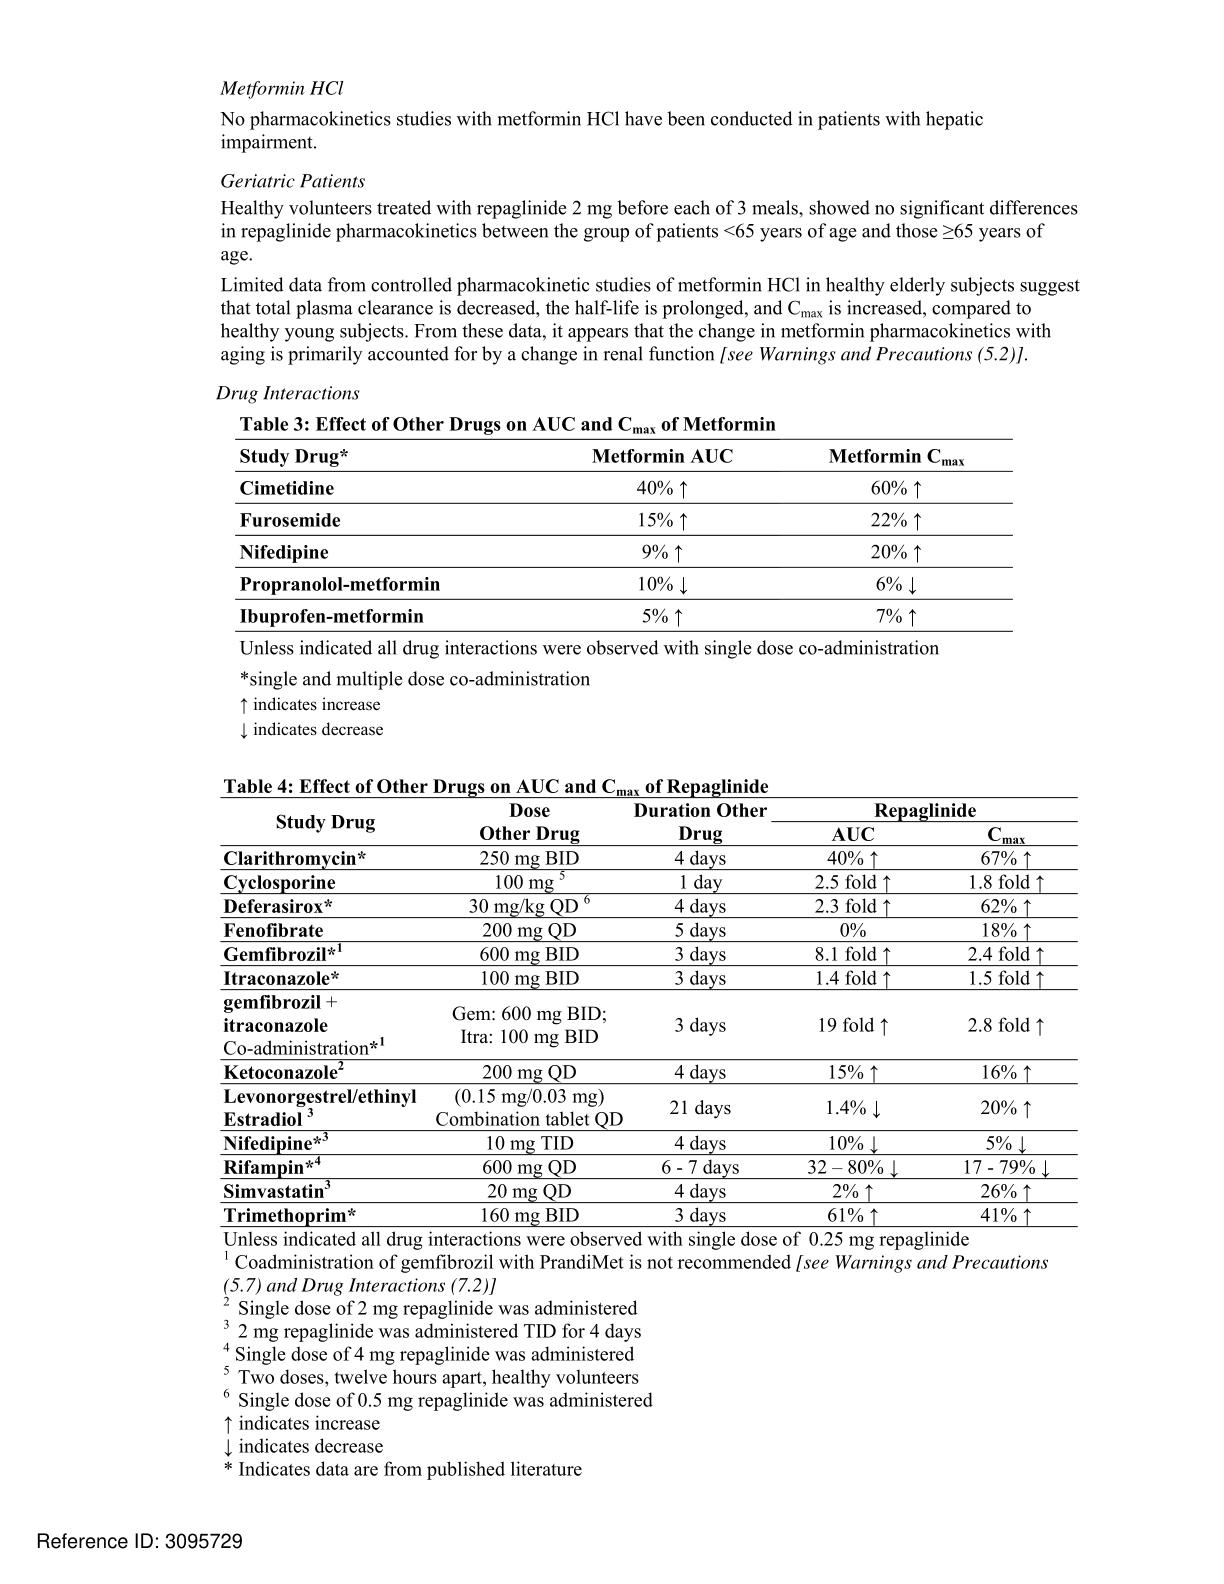partial_lined: (219, 796, 1083, 1229), (233, 436, 1014, 633)
